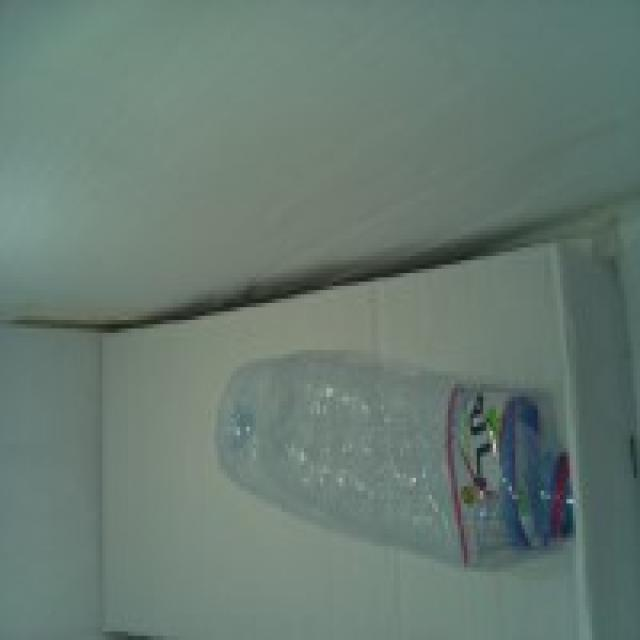Anorganik: (234, 333, 566, 563)
